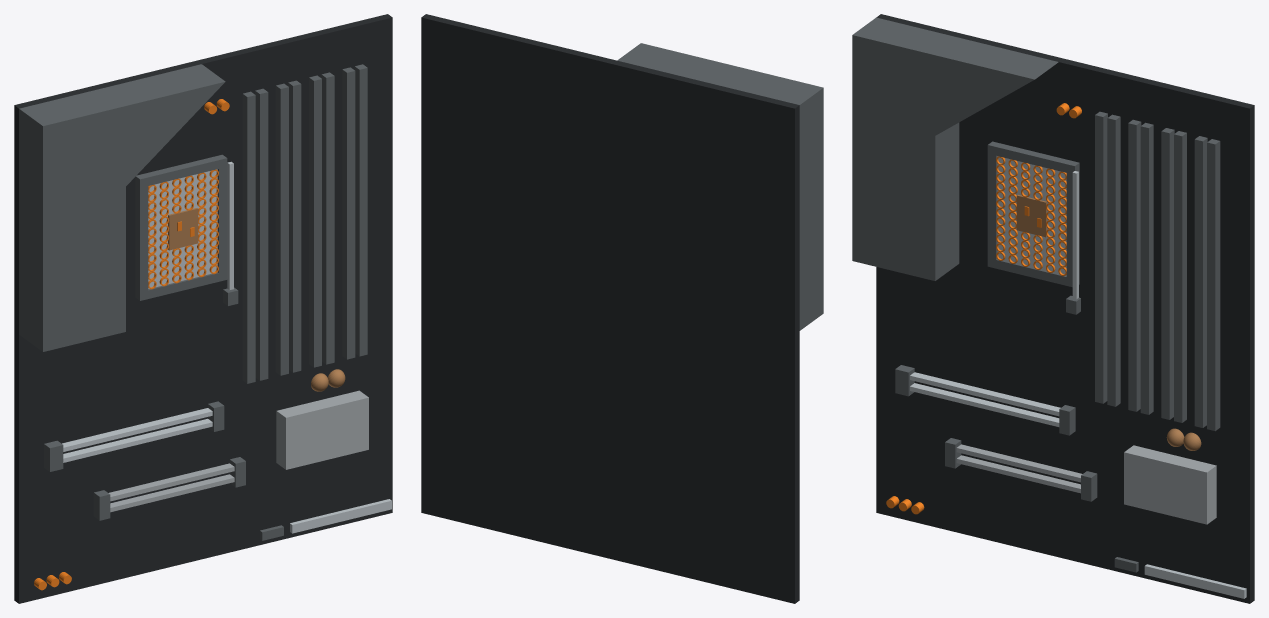
Rendered from tinker.obj.
3 renders of one model, left to right at view 1: azimuth 30°, elevation 25°; view 2: azimuth 150°, elevation 25°; view 3: azimuth 330°, elevation 25°, orthographic.
Visible parts, largest first — view 1: group_0_2829873, group_0_6383466, group_0_12568524, group_0_10988977, group_0_16089887, group_0_11107152; view 2: group_0_2829873, group_0_6383466; view 3: group_0_2829873, group_0_6383466, group_0_12568524, group_0_10988977, group_0_16089887, group_0_11107152.
Boxes of the visible parts, x1,y1,x2,y2 form: group_0_2829873: (14,14,392,603); group_0_6383466: (19,64,367,540); group_0_12568524: (62,161,391,533); group_0_10988977: (108,390,368,512); group_0_16089887: (34,99,229,590); group_0_11107152: (168,208,345,391); group_0_2829873: (421,14,799,603); group_0_6383466: (617,43,823,330); group_0_2829873: (876,14,1254,603); group_0_6383466: (852,17,1220,572); group_0_12568524: (910,156,1246,598); group_0_10988977: (956,444,1216,524); group_0_16089887: (886,103,1081,514); group_0_11107152: (1016,194,1201,450).
Bounding box in the file's own units: 45 × 57 × 6.
